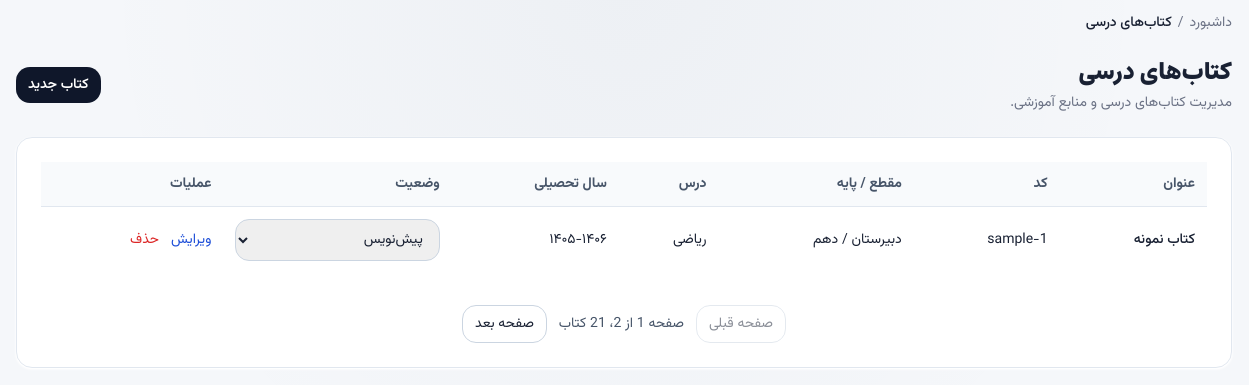
Test: TextbooksPage upload and pagination › loads the next page using the server pagination contract
This screenshot has width=1249, height=385.
Check: the text "کتاب نمونه" is shown, box [1060,206,1207,273]
Click the button "صفحه بعد": (504, 324) [462,305,547,343]
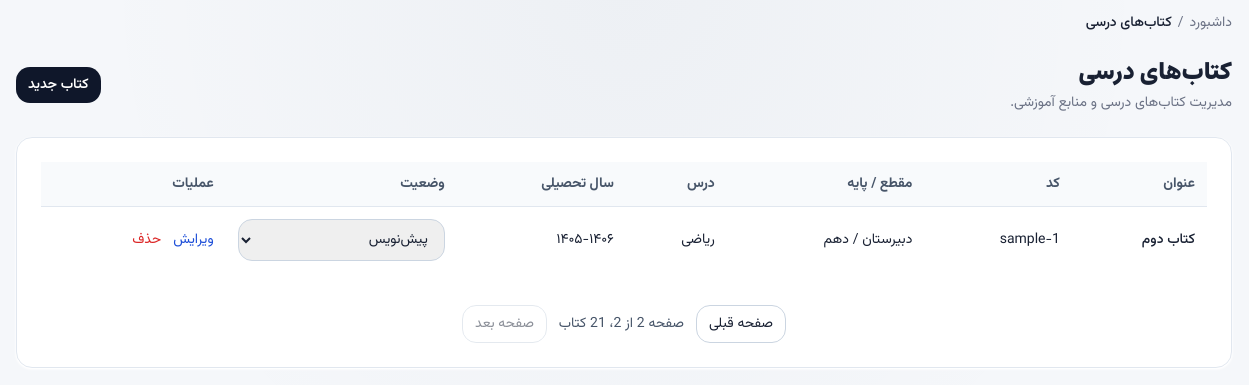
Check: the text "کتاب دوم" is shown, box [1072,206,1207,273]
Check: the text "صفحه 2 از 2، 21 کتاب" is shown, box [559,314,684,334]
